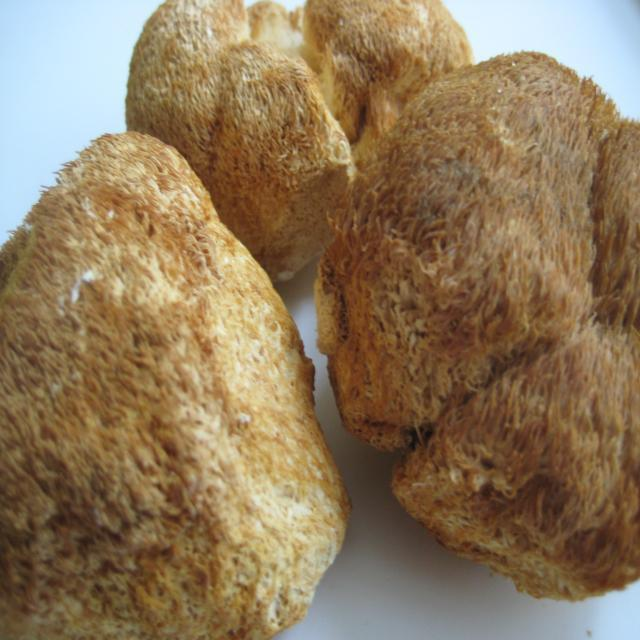Hericium erinaceus: (0, 132, 352, 635), (320, 52, 637, 599), (128, 2, 350, 284)
